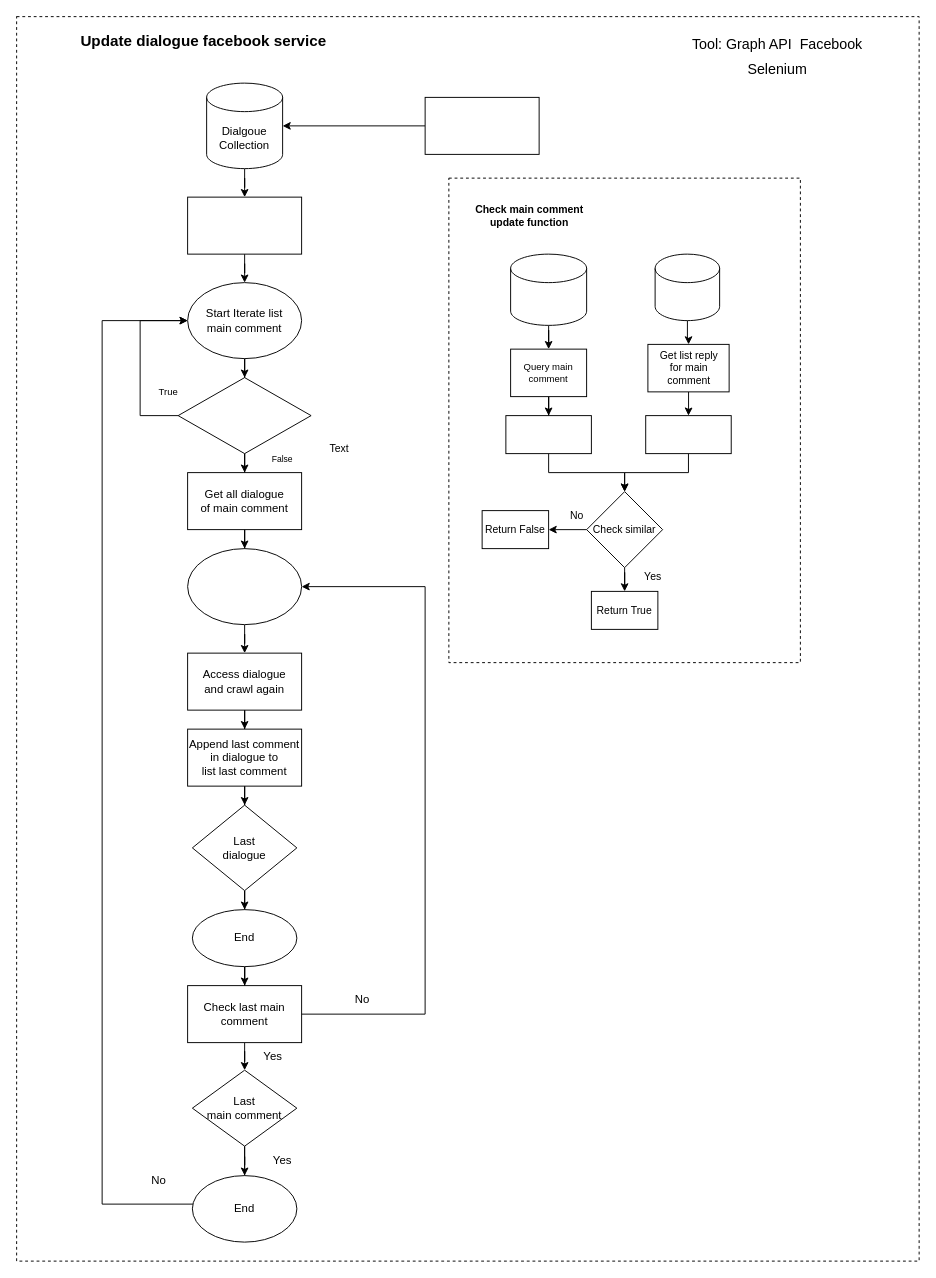
The diagram is 936 pixels wide and 1278 high, and some of its shapes have lost their labels. The centre of each missing label's shape, as x and y in pixels:
"Check main comment update" goes at (x=244, y=415).
"Generate dialogue facebook service" goes at (x=481, y=125).
"Get last comment" goes at (x=548, y=434).
"Get last reply" goes at (x=688, y=434).
"Graph API Facebook" goes at (x=687, y=287).
"Main comment collection" goes at (x=548, y=289).
"Query list main comment distinct" goes at (x=244, y=225).
"Start Iterate list dialogue" goes at (x=244, y=586).
